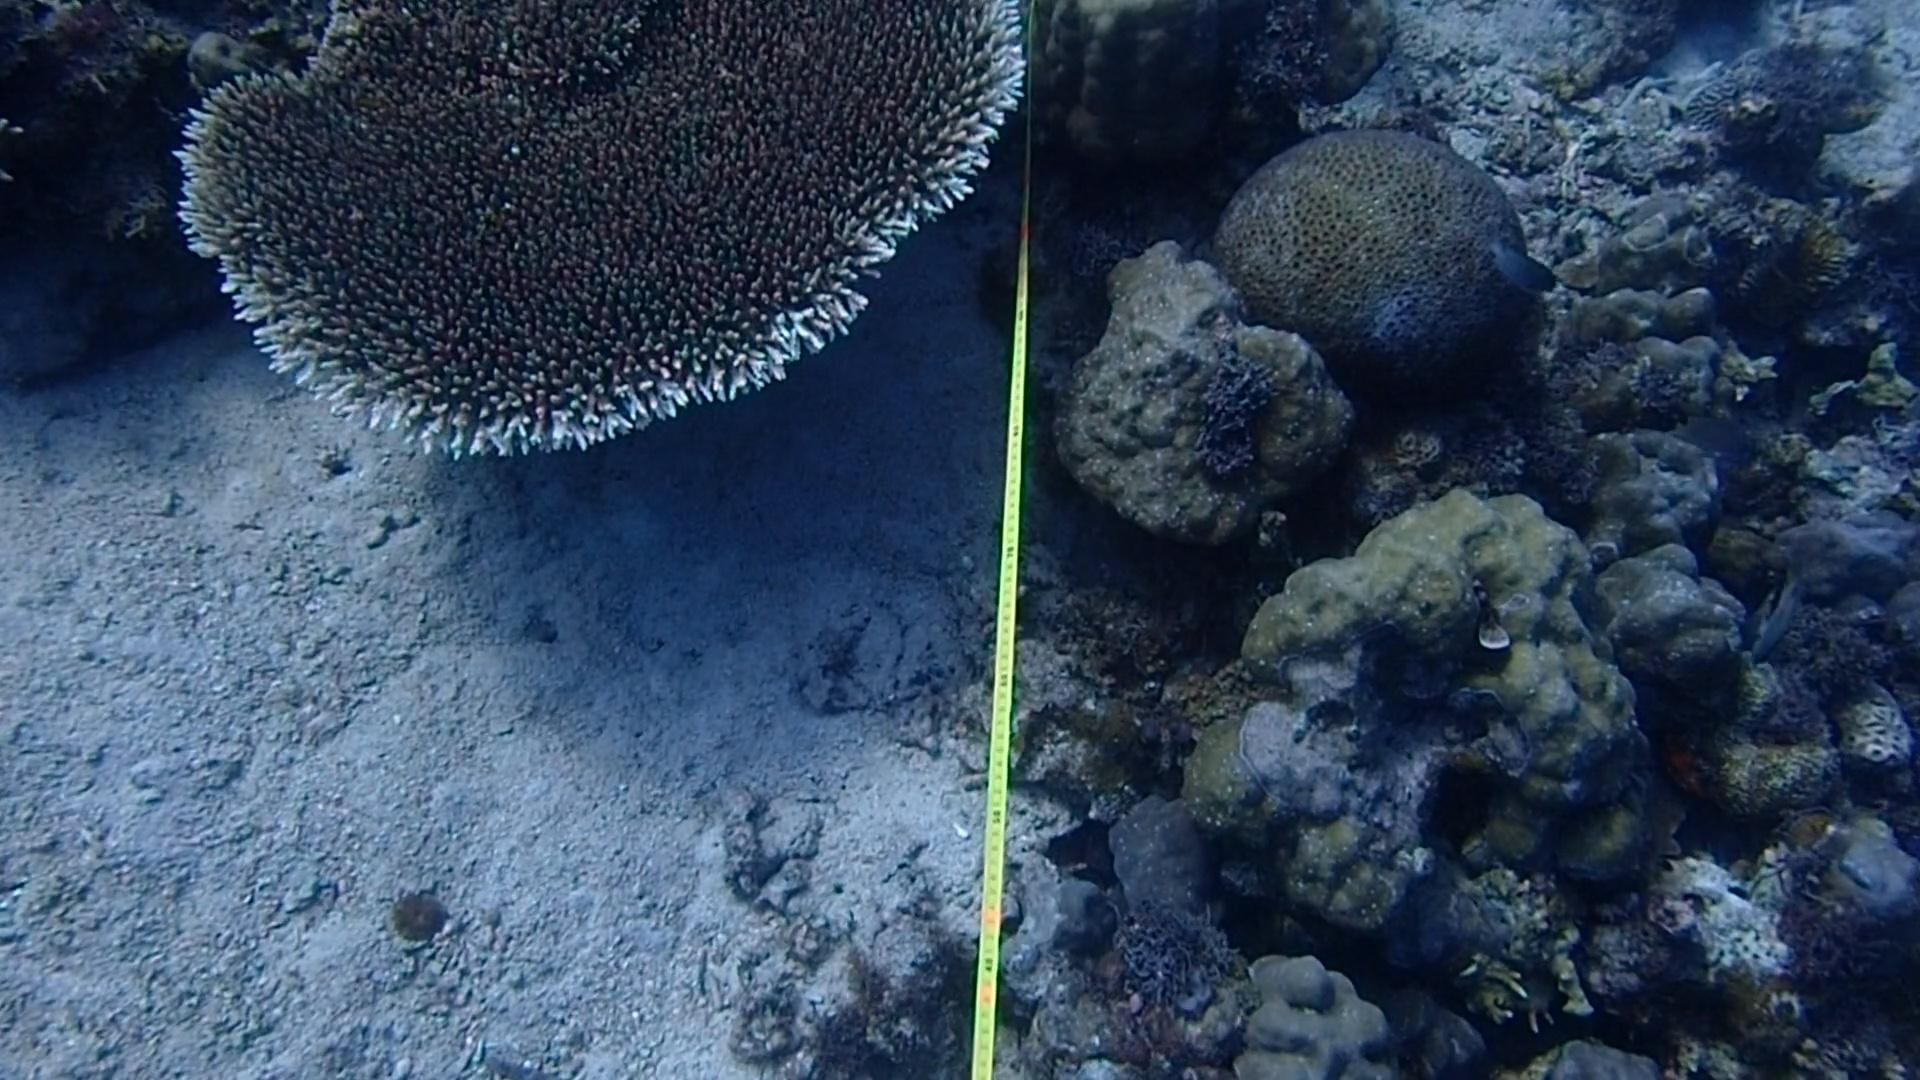Light Fish: (1469, 222, 1575, 318), (1747, 567, 1808, 670)
